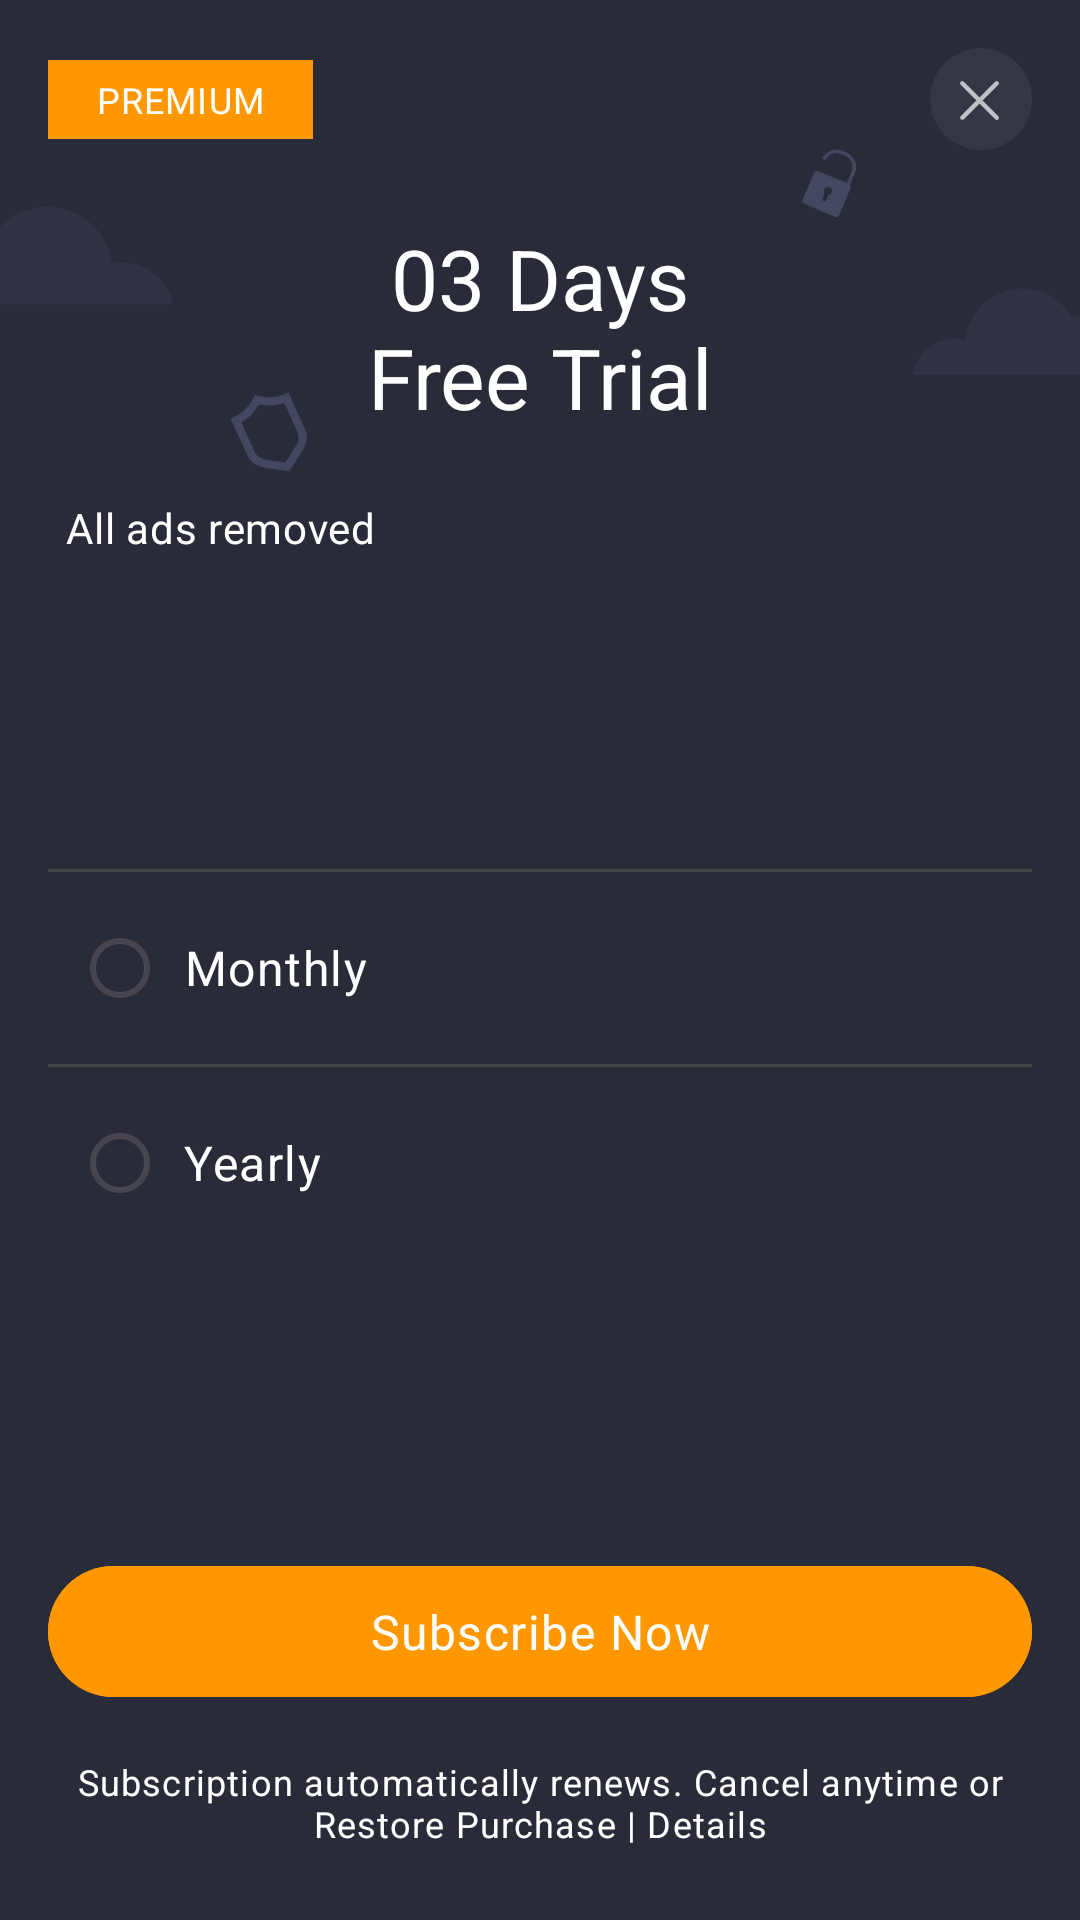

Icon click points for this 1080px x 1920px phone screenshot, format (x=x, y=y):
close round: (x=981, y=99)
